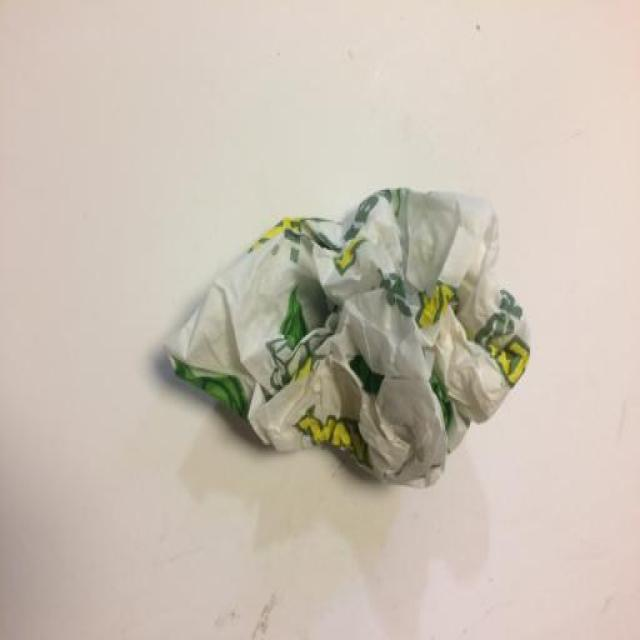Random Trash: (160, 188, 531, 487)
